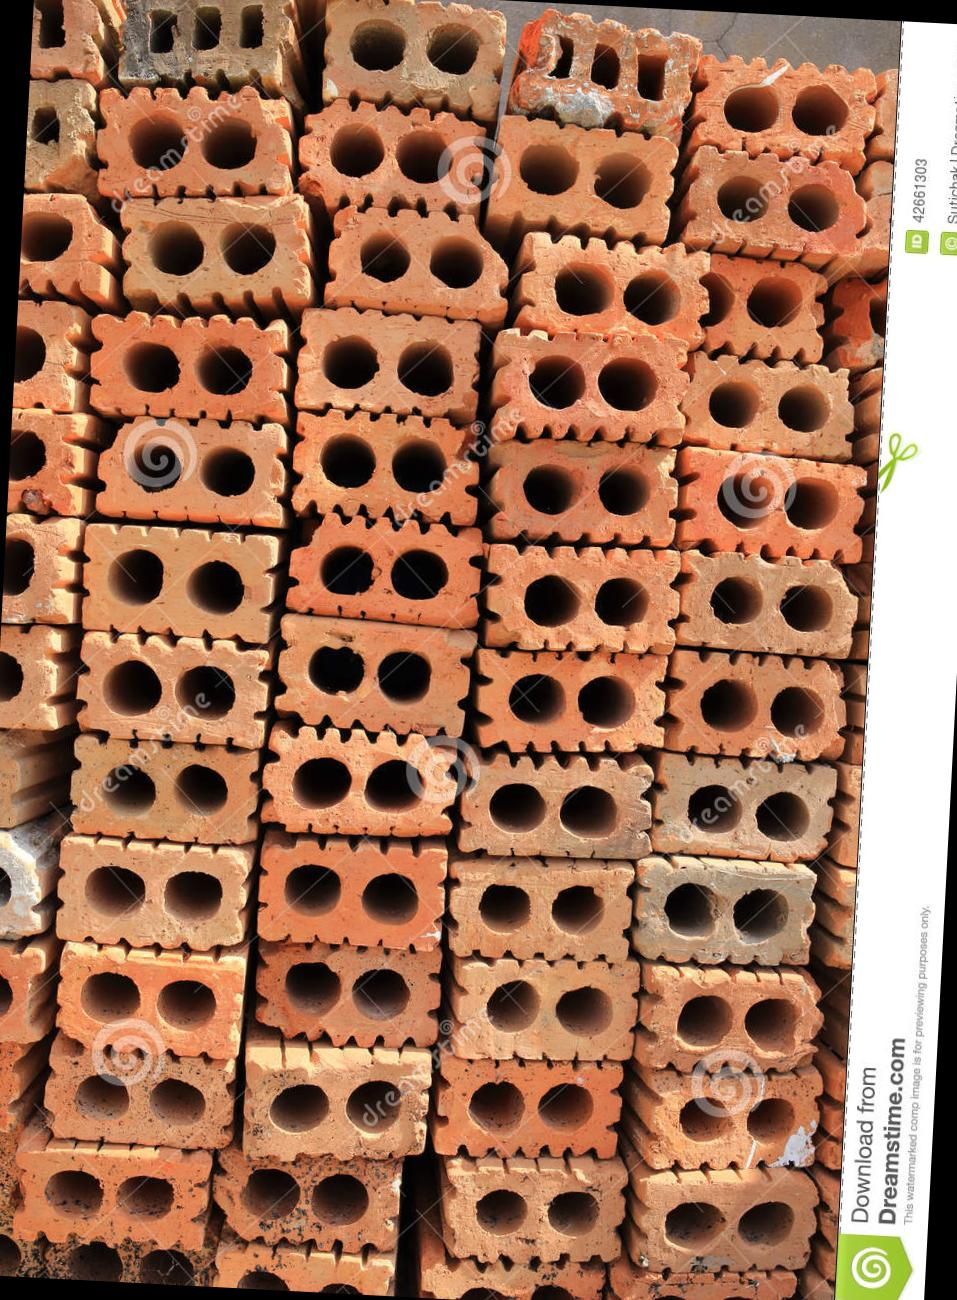brick: (274, 615, 477, 739), (96, 78, 295, 204), (491, 326, 690, 451), (116, 185, 312, 309), (513, 7, 704, 133), (241, 1042, 431, 1168), (487, 114, 678, 238), (285, 511, 484, 629), (259, 725, 460, 841), (80, 524, 276, 642), (74, 632, 270, 749), (296, 97, 487, 217), (290, 407, 482, 526), (86, 309, 291, 420), (54, 942, 247, 1059), (485, 542, 681, 657), (473, 645, 668, 759), (678, 446, 868, 563), (458, 752, 656, 864), (55, 838, 249, 951), (321, 0, 506, 119), (517, 231, 711, 344), (485, 436, 679, 547), (452, 952, 640, 1067), (255, 839, 446, 952), (96, 415, 288, 527), (69, 735, 260, 847), (649, 752, 838, 865), (12, 1144, 212, 1250), (295, 305, 482, 418), (253, 940, 442, 1051), (665, 651, 849, 765), (674, 548, 861, 660), (639, 966, 825, 1078), (434, 1054, 623, 1164), (324, 205, 513, 315), (692, 55, 879, 162), (211, 1150, 403, 1255), (442, 1162, 628, 1270), (42, 1047, 235, 1151), (446, 858, 633, 965), (684, 145, 868, 253), (646, 1066, 824, 1177), (635, 863, 818, 969), (637, 1174, 819, 1280), (681, 351, 856, 459), (117, 0, 293, 92), (703, 253, 828, 361)
